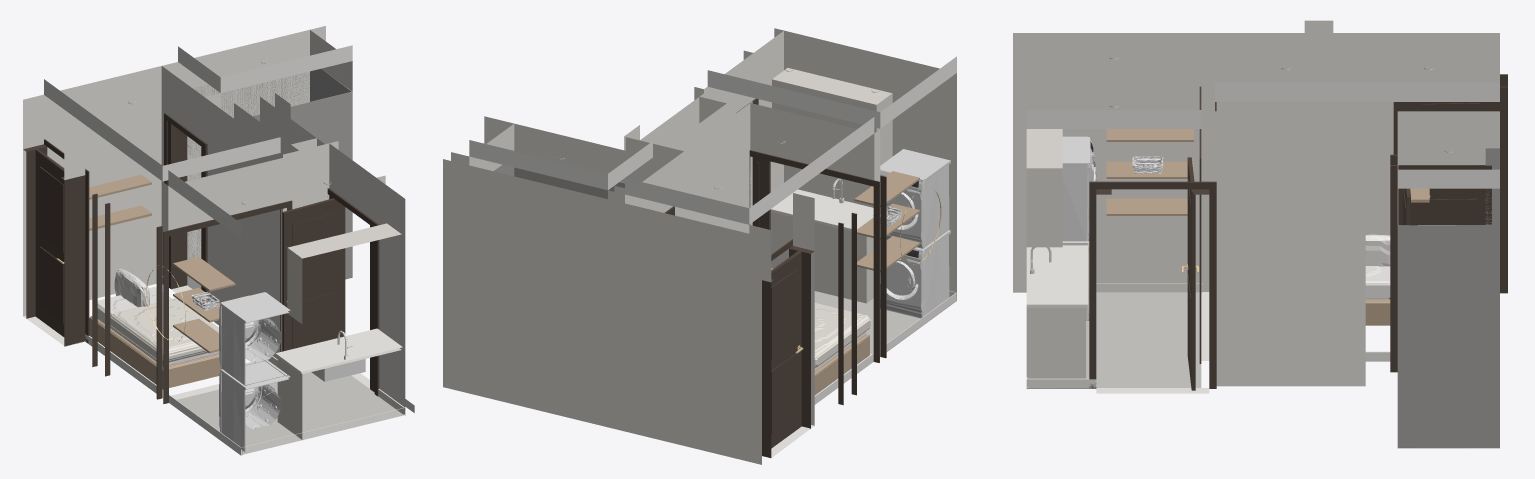
Rendered from MAID.glb.
3 renders of one model, left to right at view 1: azimuth 30°, elevation 25°; view 2: azimuth 150°, elevation 25°; view 3: azimuth 270°, elevation 25°, orthographic. The views are drawn at different scales.
Parts seen in each view (by area): view 1: WEB_MAID; view 2: WEB_MAID; view 3: WEB_MAID.
Part boxes in pixels (bbox=[...]): WEB_MAID: bbox=[23, 26, 414, 455]; WEB_MAID: bbox=[443, 28, 956, 464]; WEB_MAID: bbox=[1013, 20, 1507, 448].
Bounding box in the file's own units: 4.3 × 3 × 4.95.
